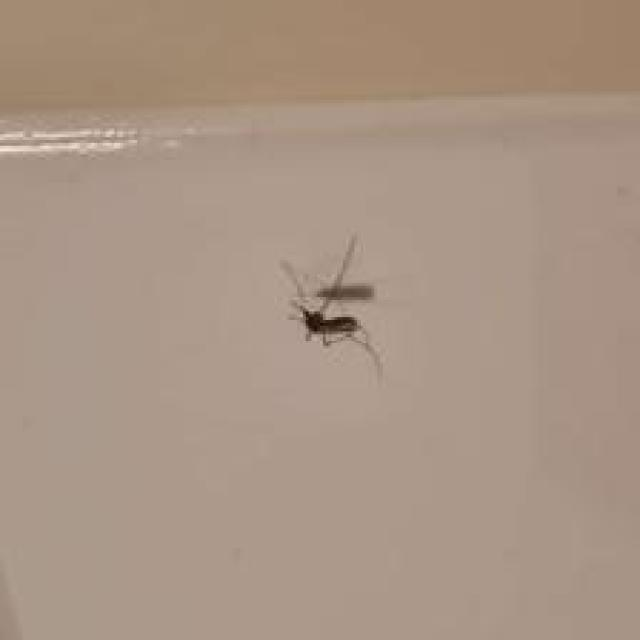Culex: (279, 231, 384, 383)
